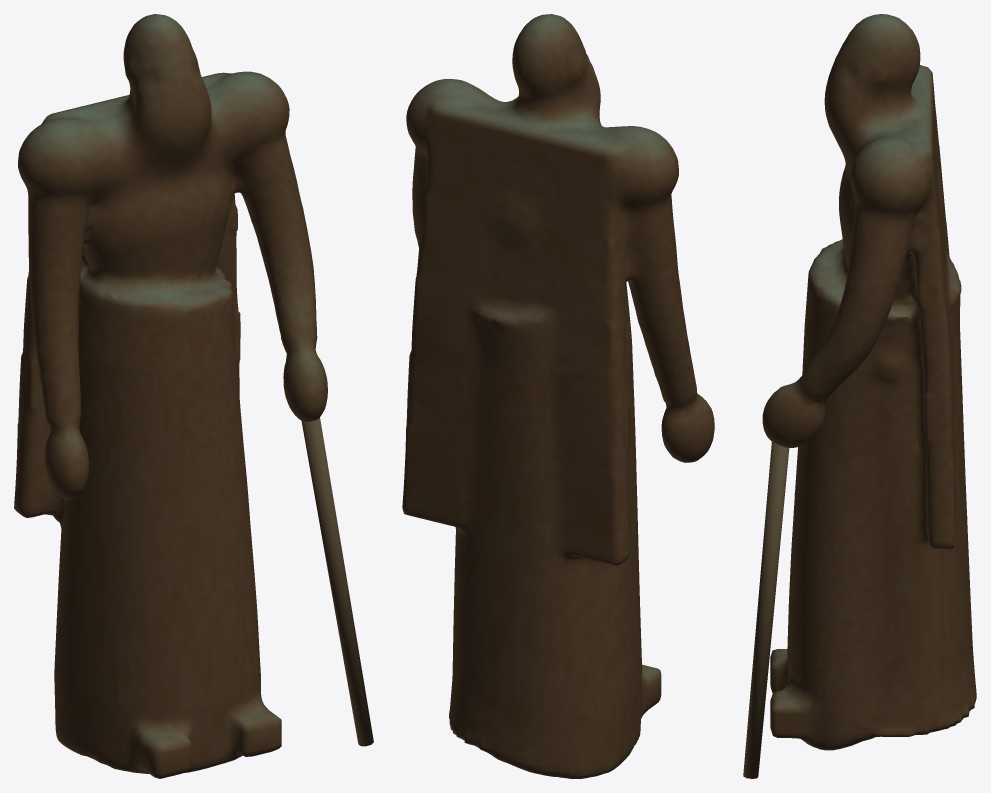
File: writer_ilia.glb
3 views of the same model, side by side, from view 1: azimuth 30°, elevation 25°; view 2: azimuth 150°, elevation 25°; view 3: azimuth 270°, elevation 25° (orthographic). The views are drawn at different scales.
Parts seen in each view (by area): view 1: wr_m; view 2: wr_m; view 3: wr_m.
Boxes of the visible parts, box(x1,y1,x2,y2) form: wr_m: box(14, 14, 373, 778); wr_m: box(402, 14, 714, 778); wr_m: box(743, 14, 976, 778).
Bounding box in the file's own units: 0.4077 × 1 × 0.2999.
